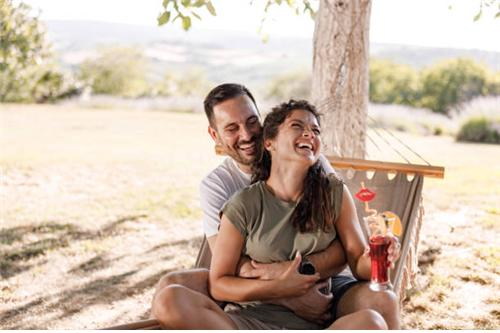alcohol: (363, 216, 396, 291)
